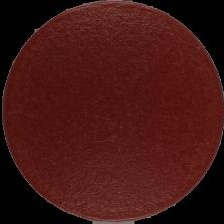16714-448: (0, 0, 224, 224)
